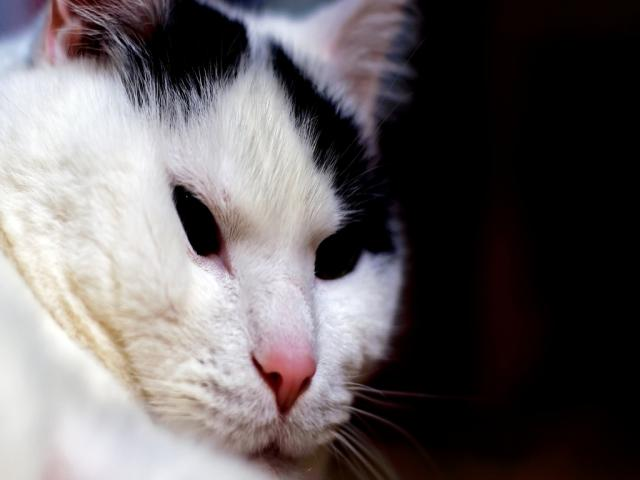Cat: (0, 0, 428, 479)
